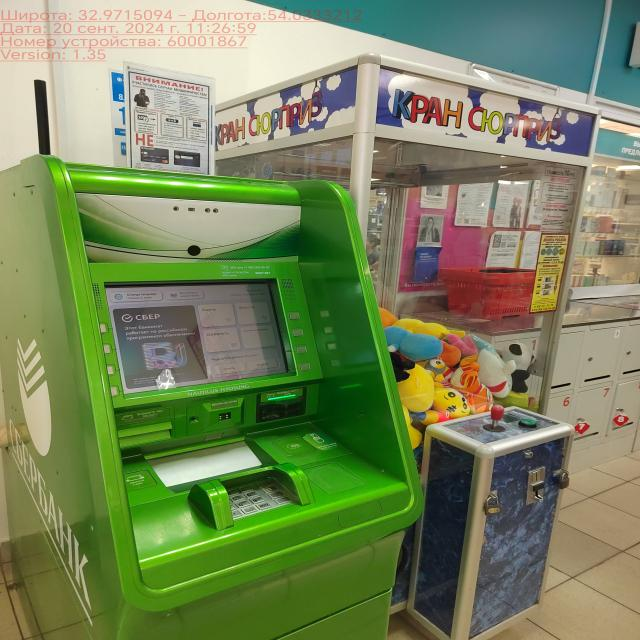bank: (0, 152, 415, 639)
